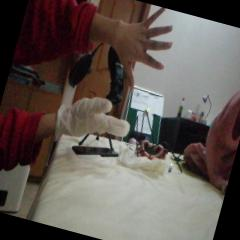gloved: (52, 87, 136, 151)
not-gloved: (89, 0, 181, 100)
